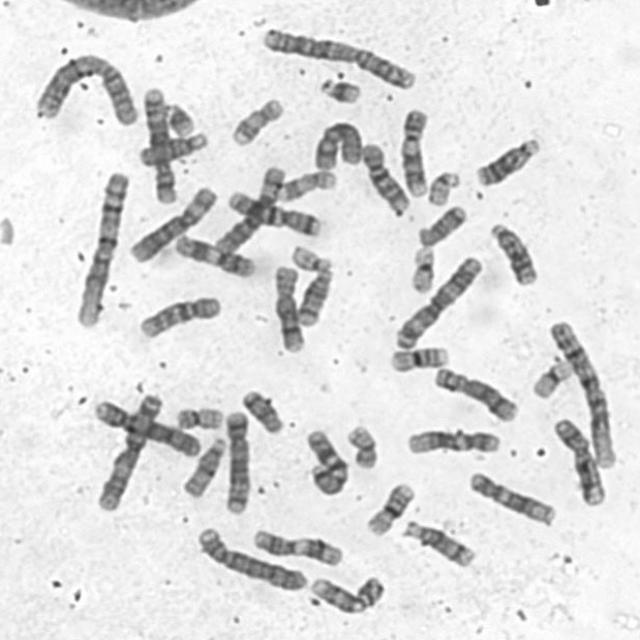A1: (545, 314, 620, 471), (72, 166, 132, 329)
A2: (257, 21, 420, 90), (29, 48, 142, 127)
A3: (390, 250, 486, 350), (92, 387, 165, 512)
B4: (192, 521, 312, 593), (89, 394, 204, 460)
B5: (136, 82, 179, 207), (220, 404, 254, 516)
C10: (356, 136, 414, 216), (133, 290, 224, 340)
C11: (170, 228, 258, 278), (247, 523, 346, 567)
C12: (464, 465, 560, 527), (402, 424, 504, 456)
C6: (125, 180, 220, 264), (212, 160, 288, 254)
C7: (223, 185, 324, 238), (301, 423, 351, 498)
C8: (429, 361, 522, 424), (269, 258, 309, 356)
C9: (305, 569, 388, 616), (395, 103, 432, 199)
D13: (470, 131, 544, 188), (485, 215, 541, 288)
D14: (399, 514, 479, 569), (291, 262, 337, 328)
D15: (178, 432, 228, 499), (133, 126, 210, 168)
E16: (361, 476, 418, 537), (384, 339, 452, 374)
E17: (226, 92, 286, 148), (273, 165, 339, 202)
E18: (412, 198, 470, 248), (237, 384, 286, 436)
F19: (527, 354, 576, 401), (404, 240, 438, 294)
F20: (341, 420, 383, 470), (170, 400, 227, 430)
G21: (313, 70, 365, 106), (158, 96, 198, 138)
G22: (423, 165, 463, 208), (286, 240, 336, 272)
X: (548, 412, 608, 508), (308, 115, 366, 171)
